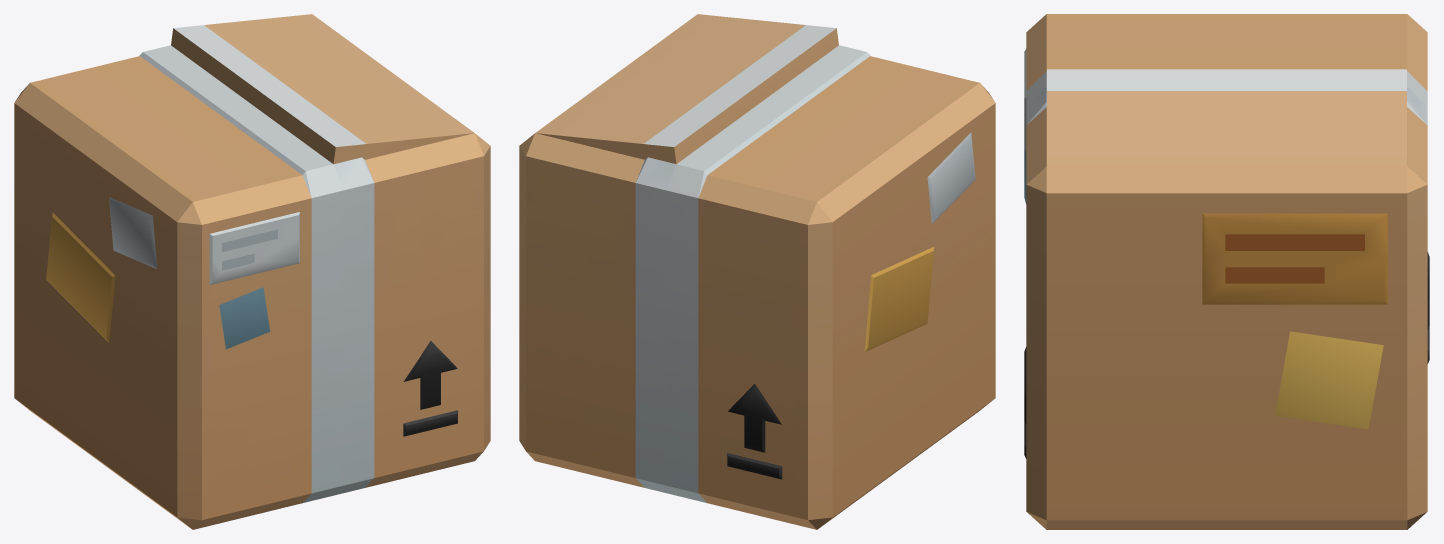
The model's file is containers_box_large.glb.
3 renders of one model, left to right at view 1: azimuth 30°, elevation 25°; view 2: azimuth 150°, elevation 25°; view 3: azimuth 270°, elevation 25°, orthographic. The views are drawn at different scales.
Visible parts, largest first — view 1: Containers_Box_Large; view 2: Containers_Box_Large; view 3: Containers_Box_Large.
Part boxes in pixels (x1,y1,x2,y2): Containers_Box_Large: (14,14,490,529); Containers_Box_Large: (519,14,995,529); Containers_Box_Large: (1024,14,1429,529).
Size of the model in its own units: 0.7577 by 0.7954 by 0.7577.
1 material, 1 textured.
